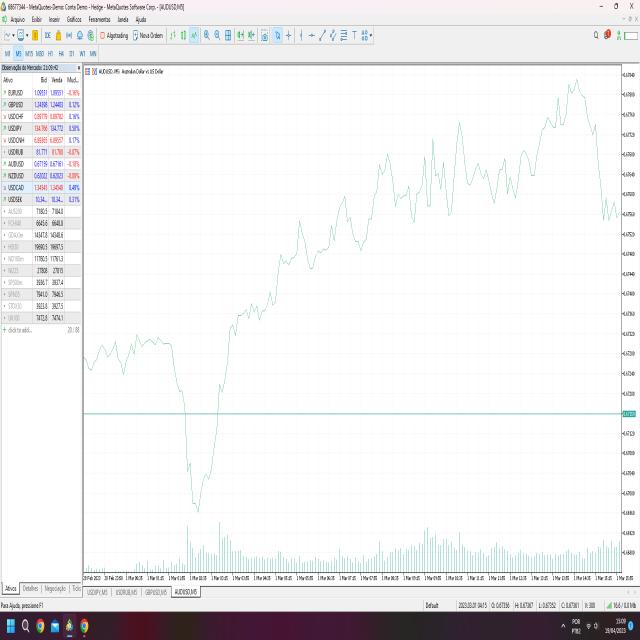bandeira_alta: (198, 281, 273, 525)
